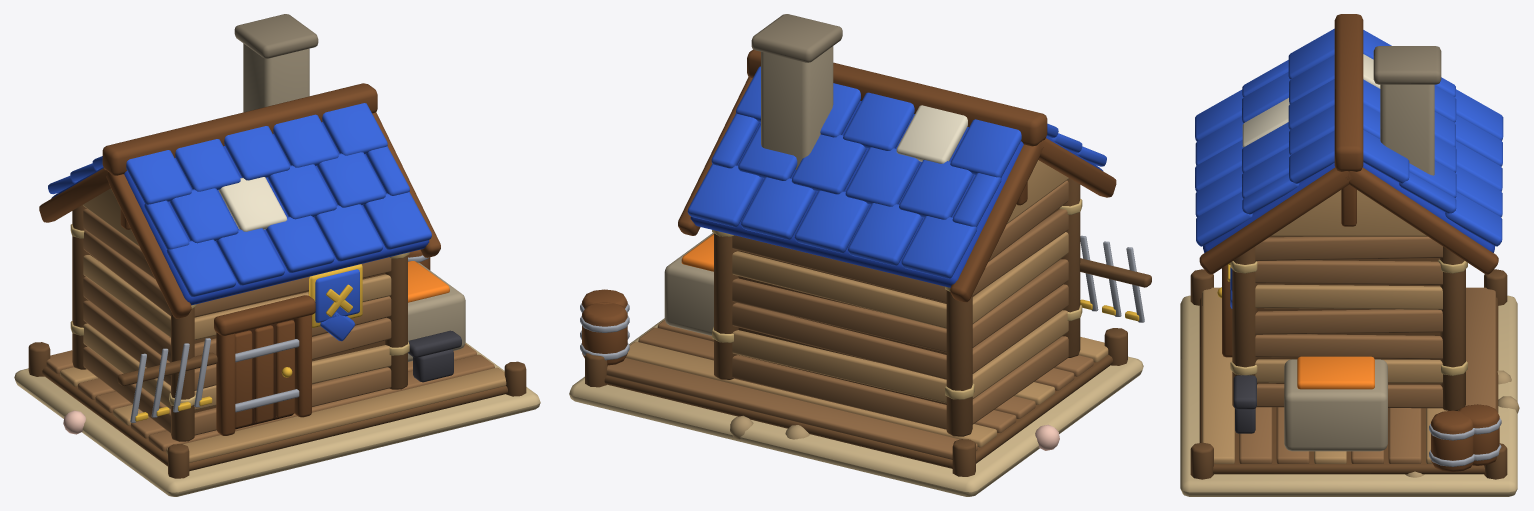
File: Blacksmith.glb
The picture shows the model from 3 angles, left to right: view 1: azimuth 30°, elevation 25°; view 2: azimuth 150°, elevation 25°; view 3: azimuth 270°, elevation 25°; orthographic projection. The views are drawn at different scales.
Parts seen in each view (by area): view 1: Blacksmith; view 2: Blacksmith; view 3: Blacksmith.
Part boxes in pixels (left/top/right/bottom): Blacksmith: left=14, top=14, right=540, bottom=496; Blacksmith: left=569, top=14, right=1151, bottom=496; Blacksmith: left=1180, top=14, right=1519, bottom=496.
Bounding box in the file's own units: 3.88 × 3.07 × 2.61.
